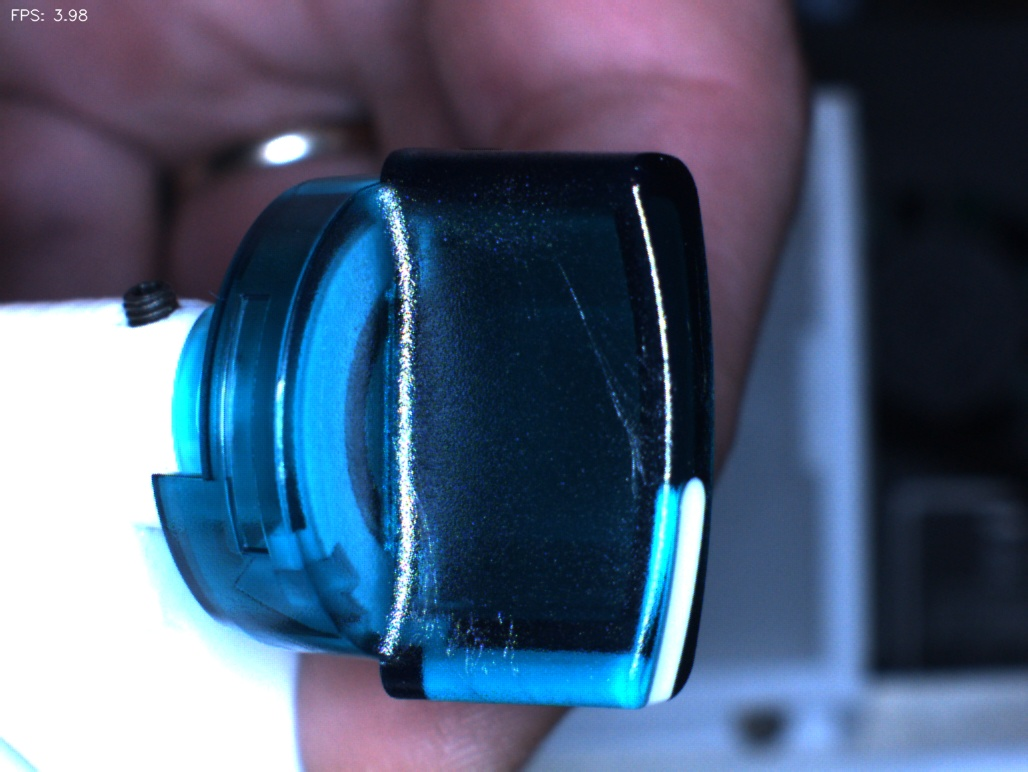Givrage: (574, 309, 665, 478)
